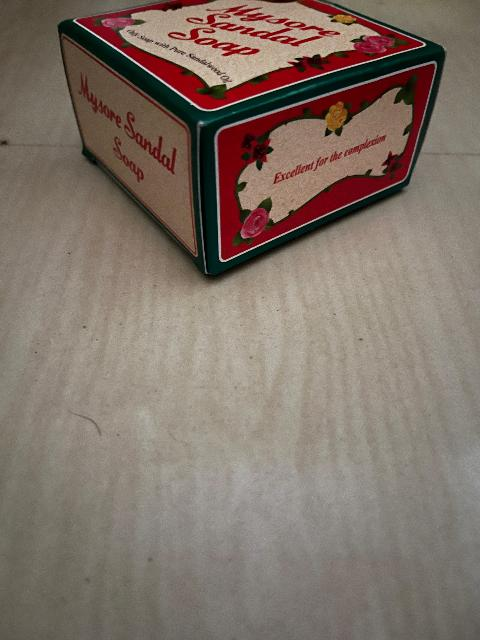mysore sandal soap: (46, 8, 437, 241)
